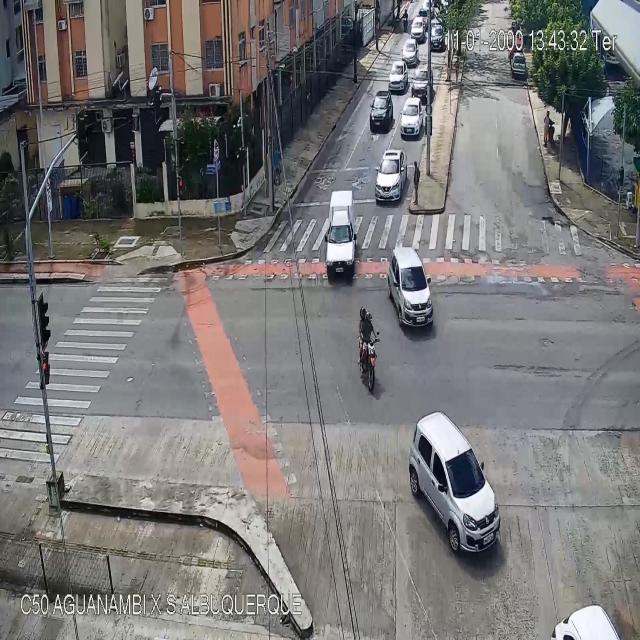Car: (408, 410, 501, 554), (547, 593, 637, 640), (388, 242, 434, 333), (322, 192, 357, 279), (375, 152, 405, 200), (411, 57, 437, 103), (368, 89, 394, 127), (400, 99, 424, 139), (390, 58, 408, 93), (410, 14, 427, 42), (402, 38, 418, 65), (431, 22, 444, 51), (510, 50, 524, 76)
Motorcycle: (360, 308, 380, 394), (403, 9, 408, 30)
